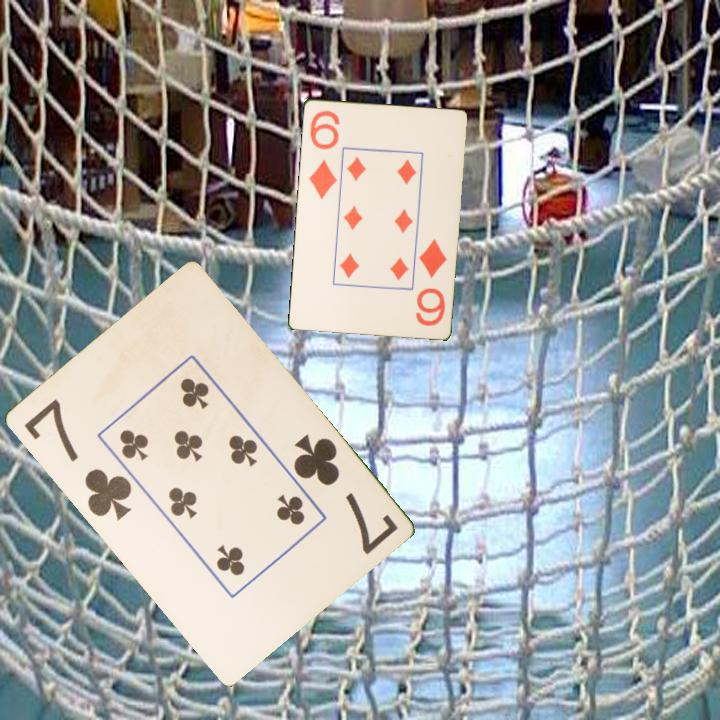6d: (305, 107, 343, 202), (412, 235, 449, 328)
7c: (19, 395, 135, 523), (288, 430, 401, 558)
